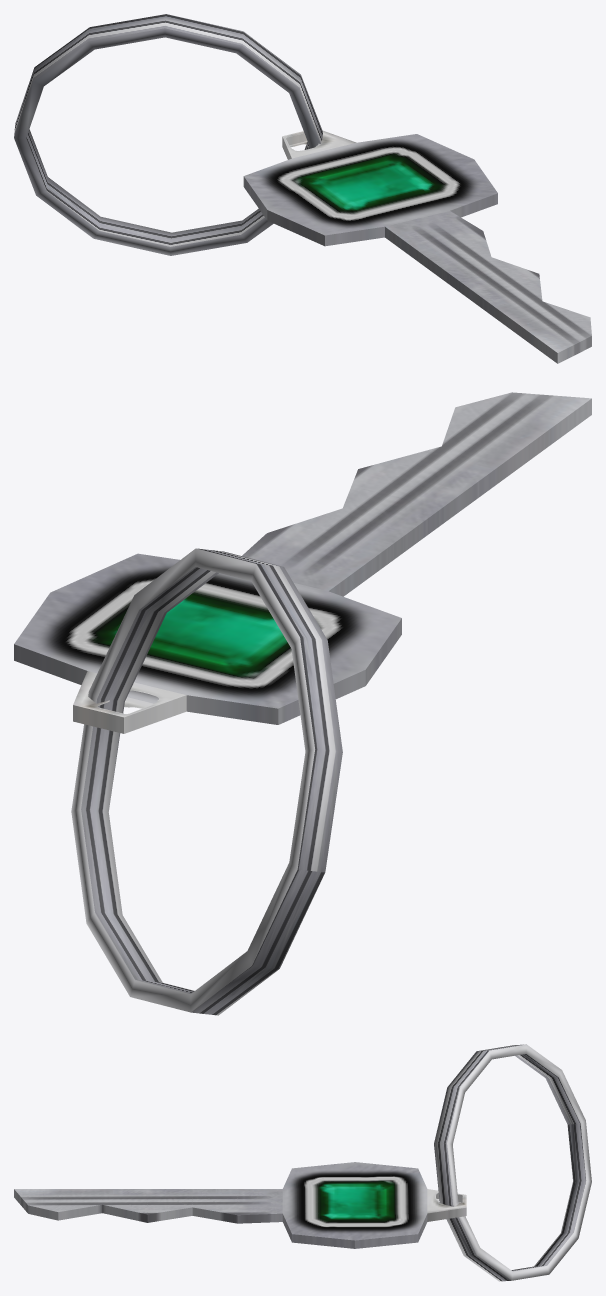
The model's file is key_j_emerald.fbx.
3 renders of one model, top to bottom at view 1: azimuth 30°, elevation 25°; view 2: azimuth 150°, elevation 25°; view 3: azimuth 270°, elevation 25°, orthographic. The views are drawn at different scales.
Visible parts, largest first — view 1: key_j_emer; view 2: key_j_emer; view 3: key_j_emer.
Part boxes in pixels (<box>): key_j_emer: <box>14,14,591,363</box>; key_j_emer: <box>14,392,591,1015</box>; key_j_emer: <box>14,1044,591,1281</box>.
Bounding box in the file's own units: 10.09 × 8.2 × 20.28.
1 material, 1 textured.
